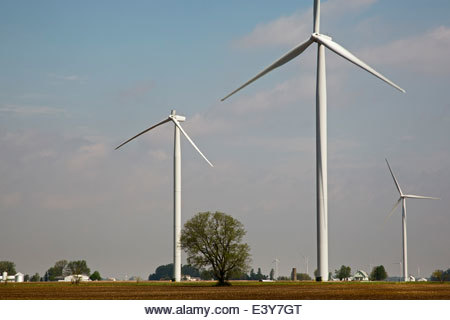faulty: (107, 108, 219, 167)
working: (380, 154, 429, 244)
